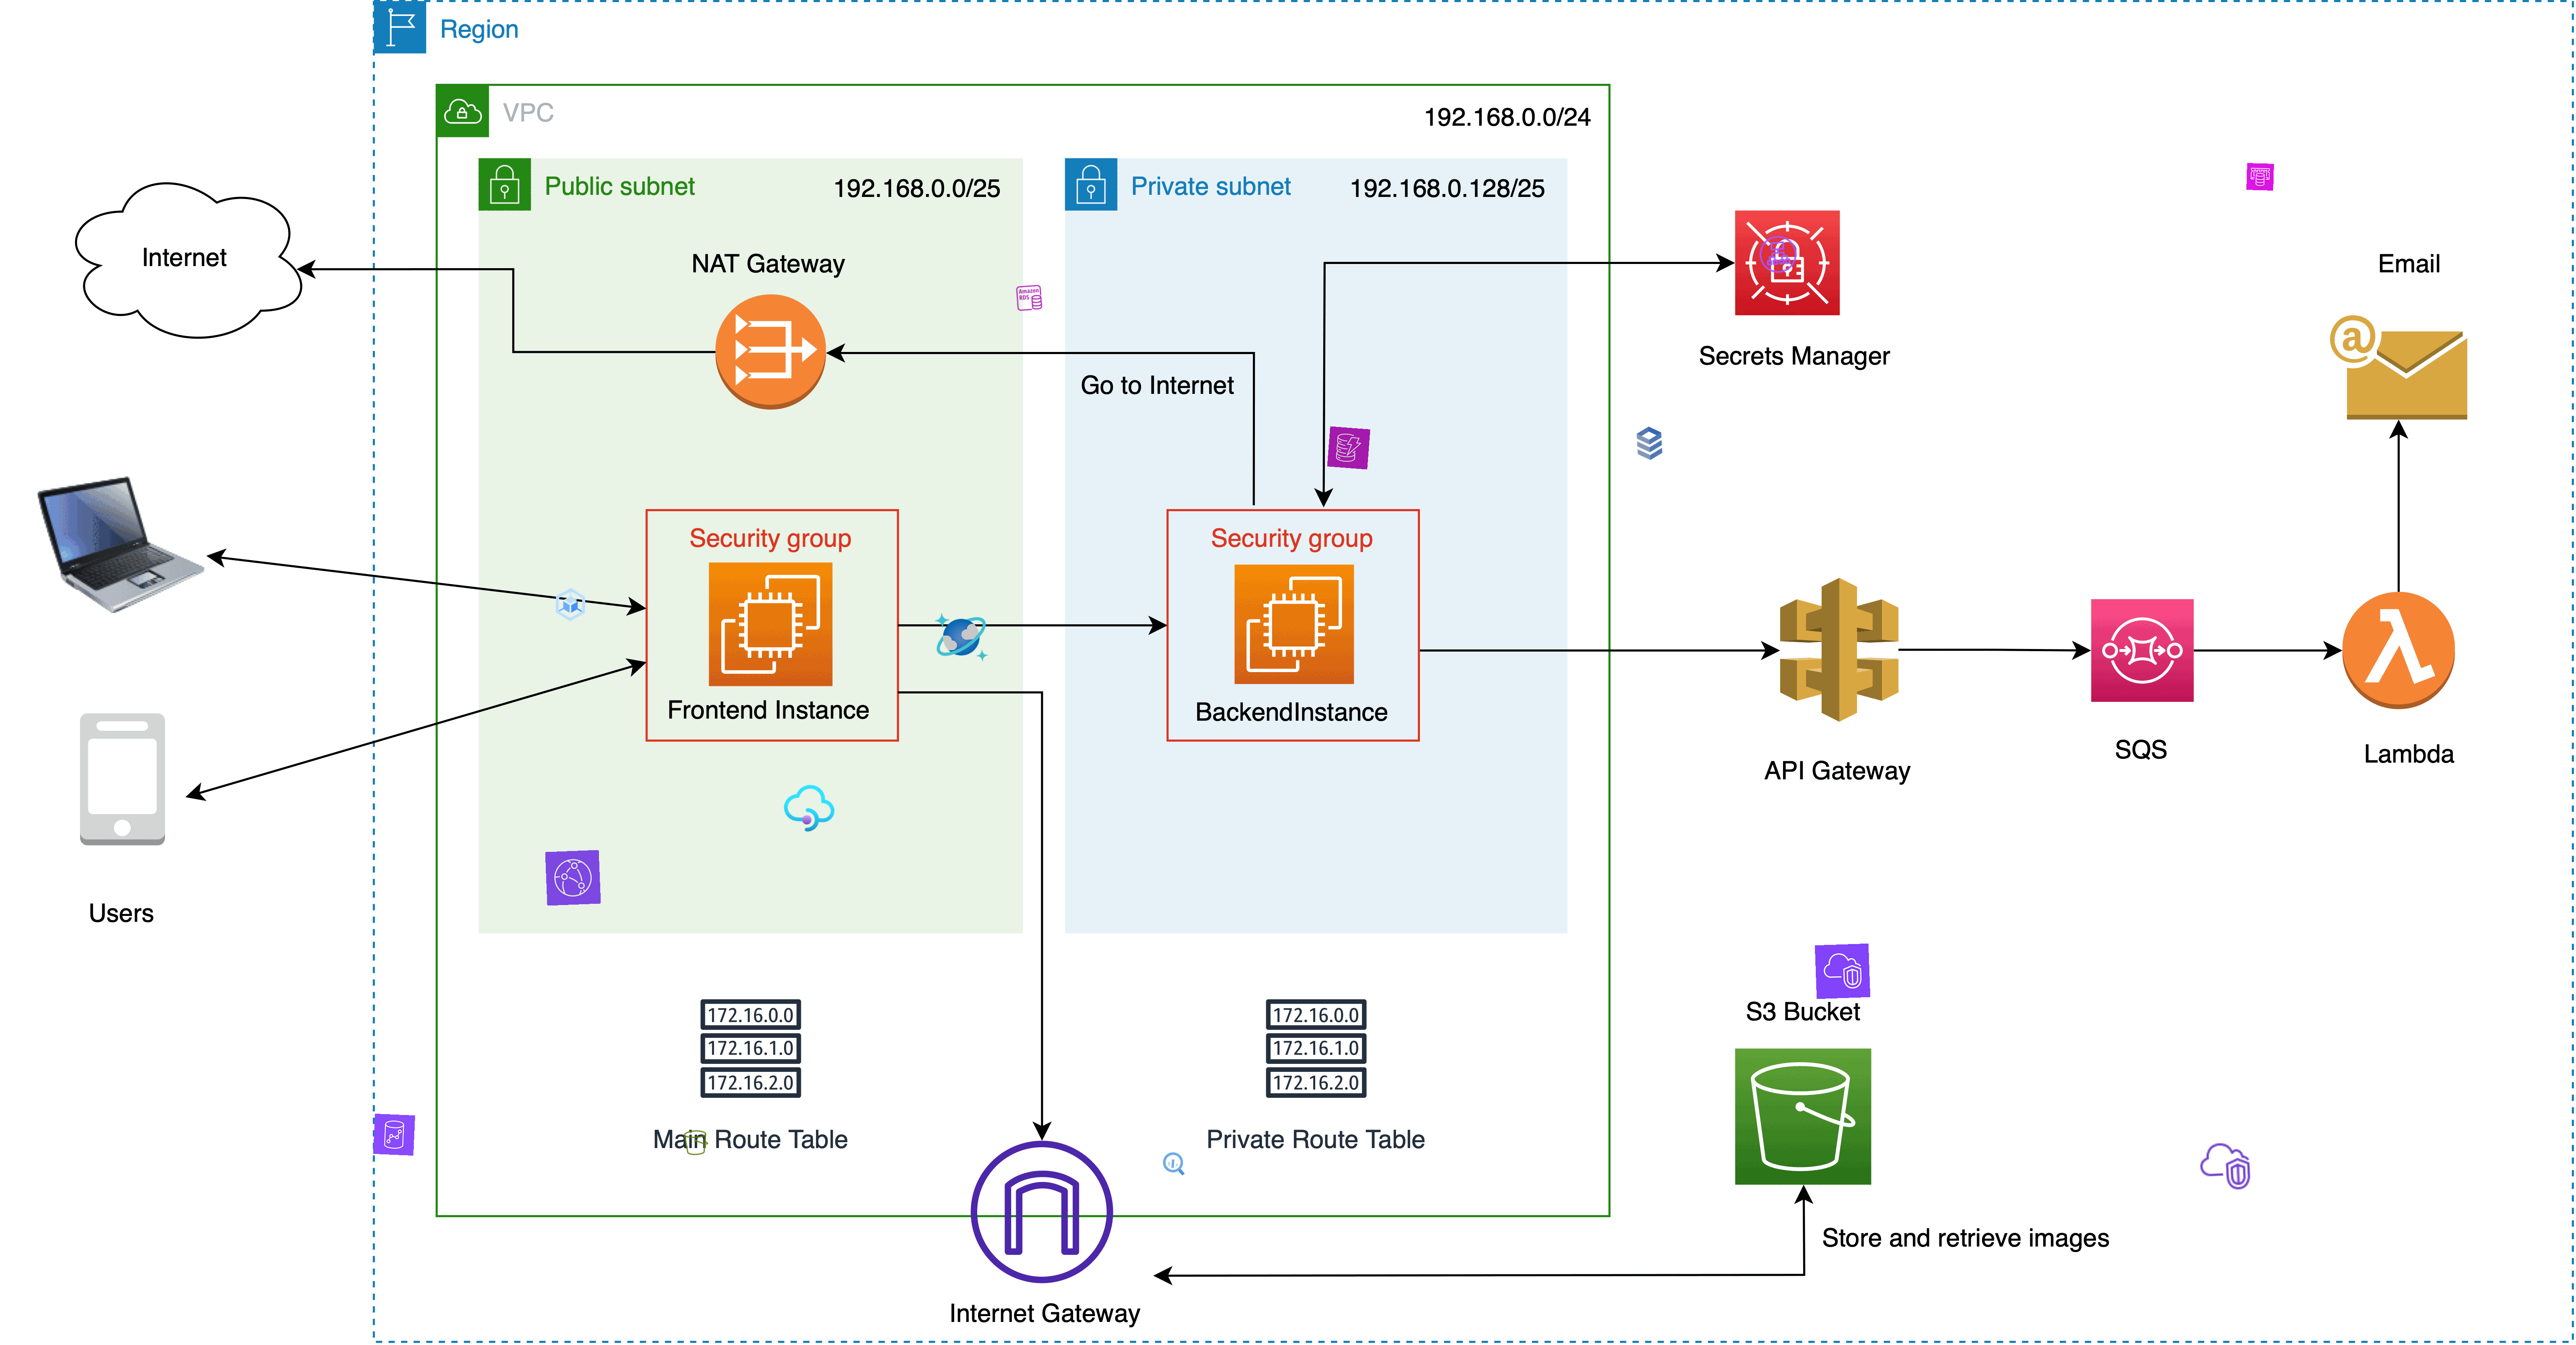aws_amazon_cloudfront: (545, 849, 601, 905)
aws_amazon_dynamodb: (1327, 426, 1370, 470)
aws_amazon_elasticache: (2247, 164, 2274, 191)
aws_amazon_redshift: (373, 1113, 416, 1156)
aws_amazon_virtual_private_cloud: (1814, 943, 1871, 999)
aws_aurora_amazon_rds_instance: (1014, 283, 1044, 312)
aws_elastic_load_balancing_application_load_balancer: (1757, 232, 1799, 276)
aws_simple_storage_service_bucket: (681, 1129, 710, 1157)
aws_vpc_virtual_private_cloud_vpc: (2198, 1139, 2252, 1195)
azure_api_management_services: (782, 781, 837, 837)
azure_cosmos_db: (932, 609, 990, 667)
gcp_bigquery: (1160, 1149, 1189, 1178)
gcp_cloud_sql: (1629, 423, 1671, 465)
gcp_google_kubernetes_engine: (550, 585, 591, 626)
